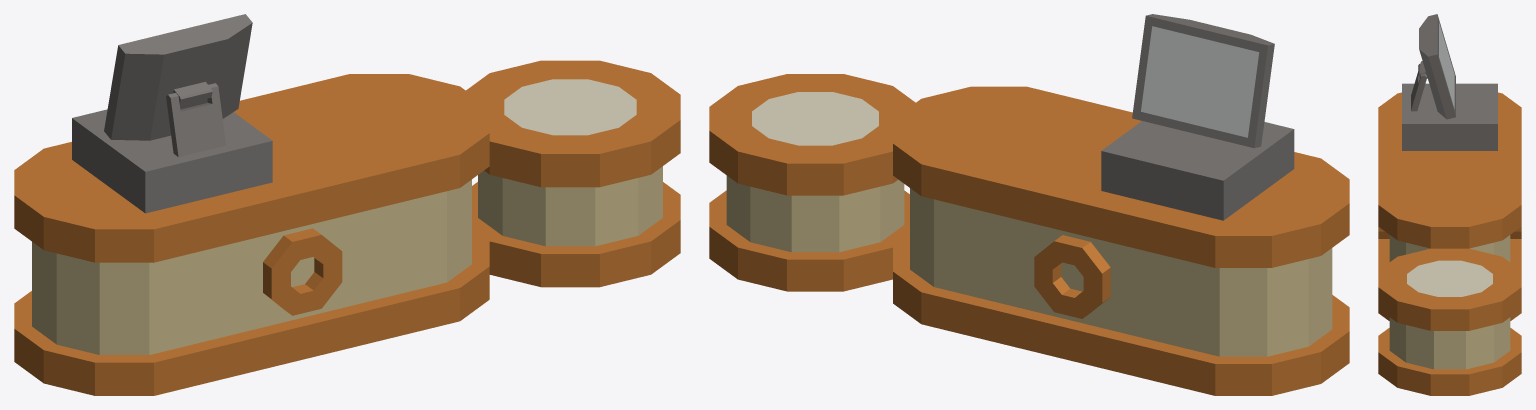
File: Counter08.fbx
3 views of the same model, side by side, from view 1: azimuth 30°, elevation 25°; view 2: azimuth 150°, elevation 25°; view 3: azimuth 270°, elevation 25° (orthographic). The views are drawn at different scales.
Visible parts, largest first — view 1: Table_Large, Table_Small, CashRegister; view 2: Table_Large, Table_Small, CashRegister; view 3: Table_Small, Table_Large, CashRegister.
Boxes of the visible parts, box(x1,y1,x2,y2) form: Table_Large: box(14, 74, 489, 395); Table_Small: box(466, 60, 680, 287); CashRegister: box(72, 14, 272, 213); Table_Large: box(893, 86, 1349, 395); Table_Small: box(709, 74, 915, 291); CashRegister: box(1101, 14, 1294, 220); Table_Small: box(1378, 248, 1521, 395); Table_Large: box(1378, 92, 1521, 320); CashRegister: box(1402, 14, 1497, 150).
Bounding box in the file's own units: 4 × 1.89 × 1.2.
1 material, 1 textured.
